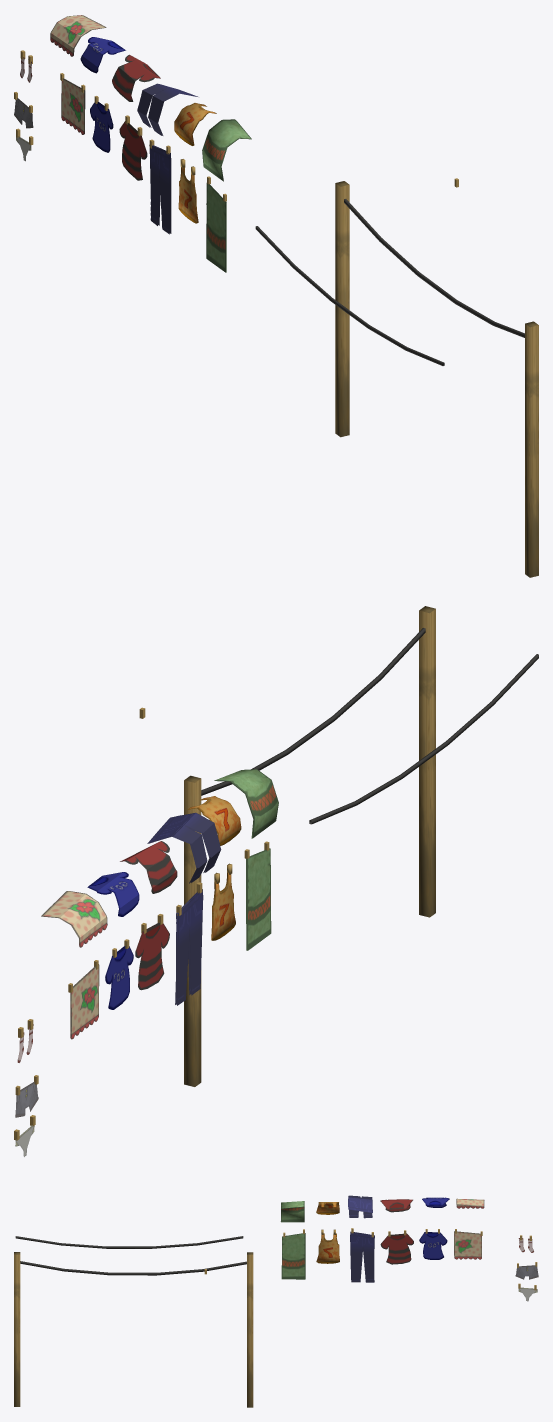
The model's file is varal_vazio.fbx.
3 views of the same model, one above another, from view 1: azimuth 30°, elevation 25°; view 2: azimuth 150°, elevation 25°; view 3: azimuth 270°, elevation 25° (orthographic). The views are drawn at different scales.
Visible parts, largest first — view 1: varal com suporte, roupa_06_normal, roupa_05_normal, roupa_05_high, roupa_04_high, roupa_06_high, roupa_04_normal, roupa_02_normal, roupa_02_high, varal avulso, roupa_01_normal, roupa_03_high (+2 smaller); view 2: varal com suporte, roupa_06_normal, roupa_05_normal, roupa_06_high, roupa_04_high, roupa_05_high, roupa_02_normal, roupa_04_normal, varal avulso, roupa_02_high, roupa_03_normal, roupa_01_normal (+2 smaller); view 3: varal com suporte, roupa_06_normal, roupa_05_normal, roupa_02_normal, roupa_04_normal, varal avulso, roupa_01_normal, roupa_03_normal, roupa_06_high, roupa_05_high, roupa_02_high, roupa_enfeite_01 (+2 smaller).
Part boxes in pixels (x1,y1,x2,y2): varal com suporte: [335, 181, 538, 577]; roupa_06_normal: [149, 139, 171, 234]; roupa_05_normal: [206, 176, 226, 272]; roupa_05_high: [202, 119, 251, 181]; roupa_04_high: [50, 15, 106, 56]; roupa_06_high: [137, 83, 197, 135]; roupa_04_normal: [60, 73, 85, 134]; roupa_02_normal: [119, 115, 147, 180]; roupa_02_high: [112, 54, 160, 101]; varal avulso: [255, 226, 444, 365]; roupa_01_normal: [90, 96, 113, 152]; roupa_03_high: [174, 103, 216, 145]; varal com suporte: [184, 606, 435, 1086]; roupa_06_normal: [175, 882, 203, 1005]; roupa_05_normal: [244, 841, 271, 950]; roupa_06_high: [147, 812, 221, 883]; roupa_04_high: [41, 891, 107, 947]; roupa_05_high: [214, 769, 278, 838]; roupa_02_normal: [135, 914, 169, 990]; roupa_04_normal: [68, 960, 99, 1039]; varal avulso: [309, 654, 538, 824]; roupa_02_high: [120, 841, 177, 893]; roupa_03_normal: [211, 863, 235, 940]; roupa_01_normal: [105, 939, 133, 1009]; varal com suporte: [14, 1252, 253, 1407]; roupa_06_normal: [350, 1228, 374, 1282]; roupa_05_normal: [281, 1229, 305, 1279]; roupa_02_normal: [380, 1230, 413, 1264]; roupa_04_normal: [454, 1229, 482, 1259]; varal avulso: [15, 1236, 243, 1248]; roupa_01_normal: [419, 1229, 447, 1259]; roupa_03_normal: [316, 1229, 339, 1263]; roupa_06_high: [348, 1195, 372, 1218]; roupa_05_high: [280, 1201, 304, 1222]; roupa_02_high: [380, 1199, 412, 1212]; roupa_enfeite_01: [515, 1262, 538, 1279].
Bounding box in the file's own units: 254 × 399 × 1030.
